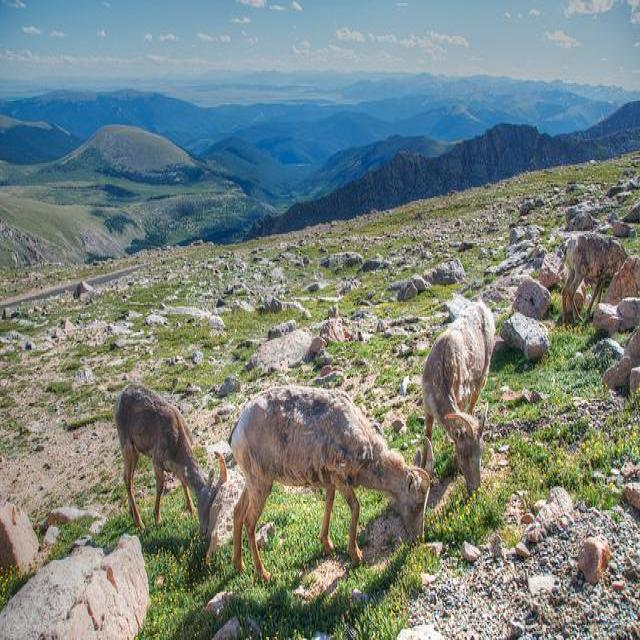Sheep: (230, 387, 433, 582), (111, 385, 229, 539), (423, 300, 496, 498), (562, 231, 629, 326)
